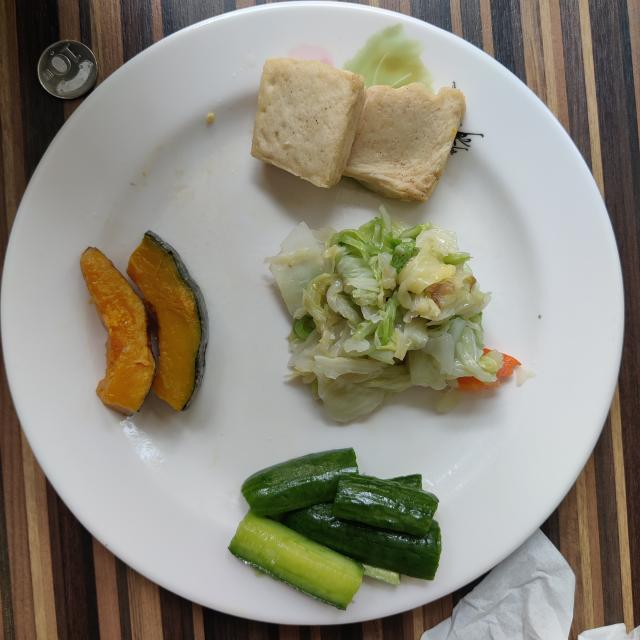cabbage: (265, 206, 520, 421)
coin: (38, 40, 98, 99)
creamy tofu -without sauce-: (251, 58, 466, 201)
cucumber: (229, 449, 441, 610)
pumpkin: (128, 231, 208, 410), (80, 248, 155, 415)
